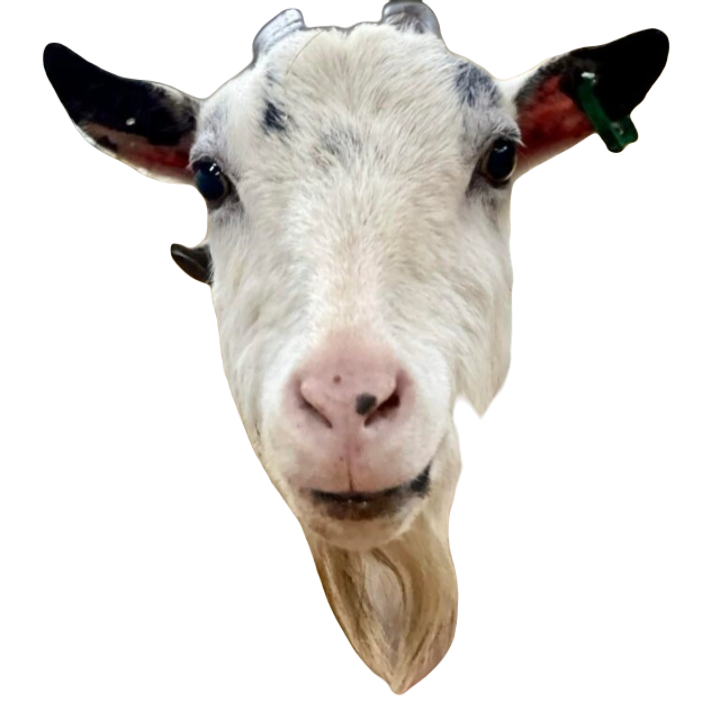Goat: (37, 0, 668, 684)
